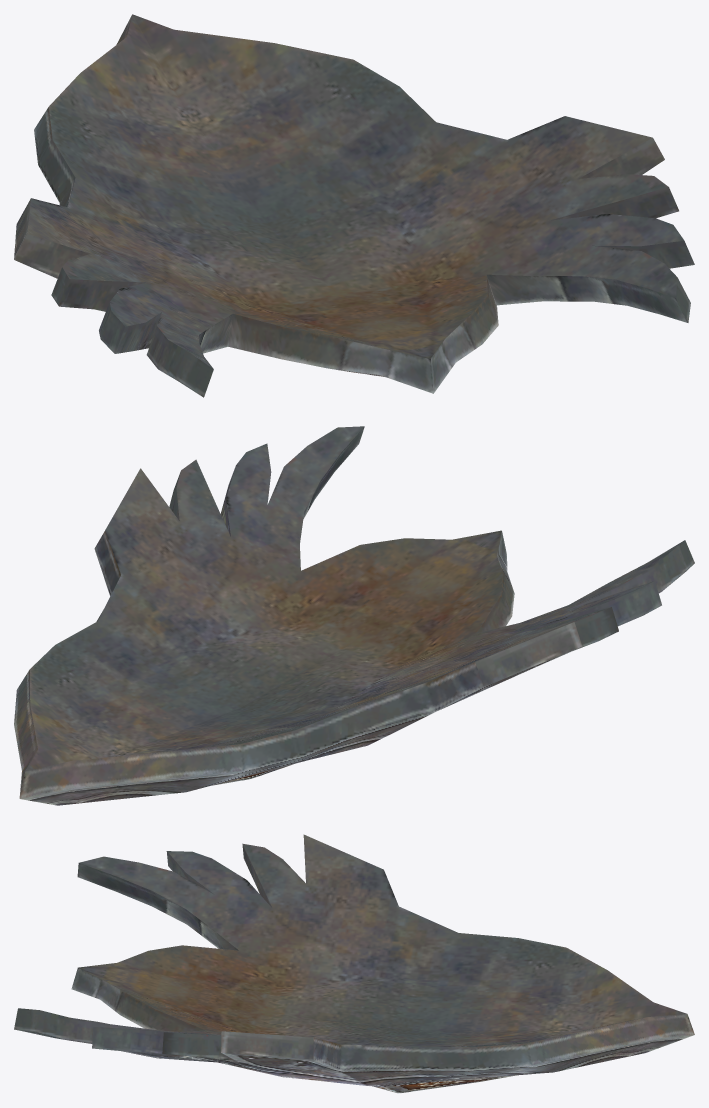
3 renders of one model, top to bottom at view 1: azimuth 30°, elevation 25°; view 2: azimuth 150°, elevation 25°; view 3: azimuth 270°, elevation 25°, orthographic. The views are drawn at different scales.
Visible parts, largest first — view 1: i100012; view 2: i100012; view 3: i100012.
Boxes of the visible parts, x1=… form: i100012: x1=14, y1=14, x2=694, y2=397; i100012: x1=14, y1=426, x2=694, y2=805; i100012: x1=14, y1=834, x2=694, y2=1093.
Bounding box in the file's own units: 48.47 × 16.63 × 68.1.
Materials: 1 (1 with a texture image).
